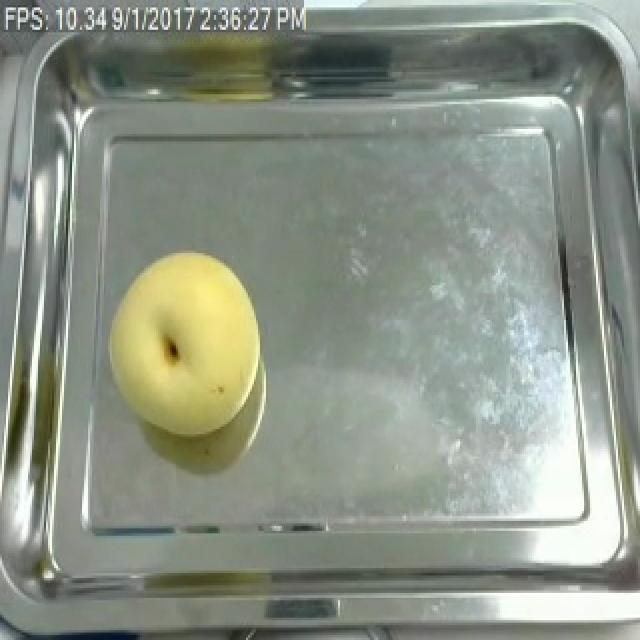Fruit: (94, 241, 272, 444)
